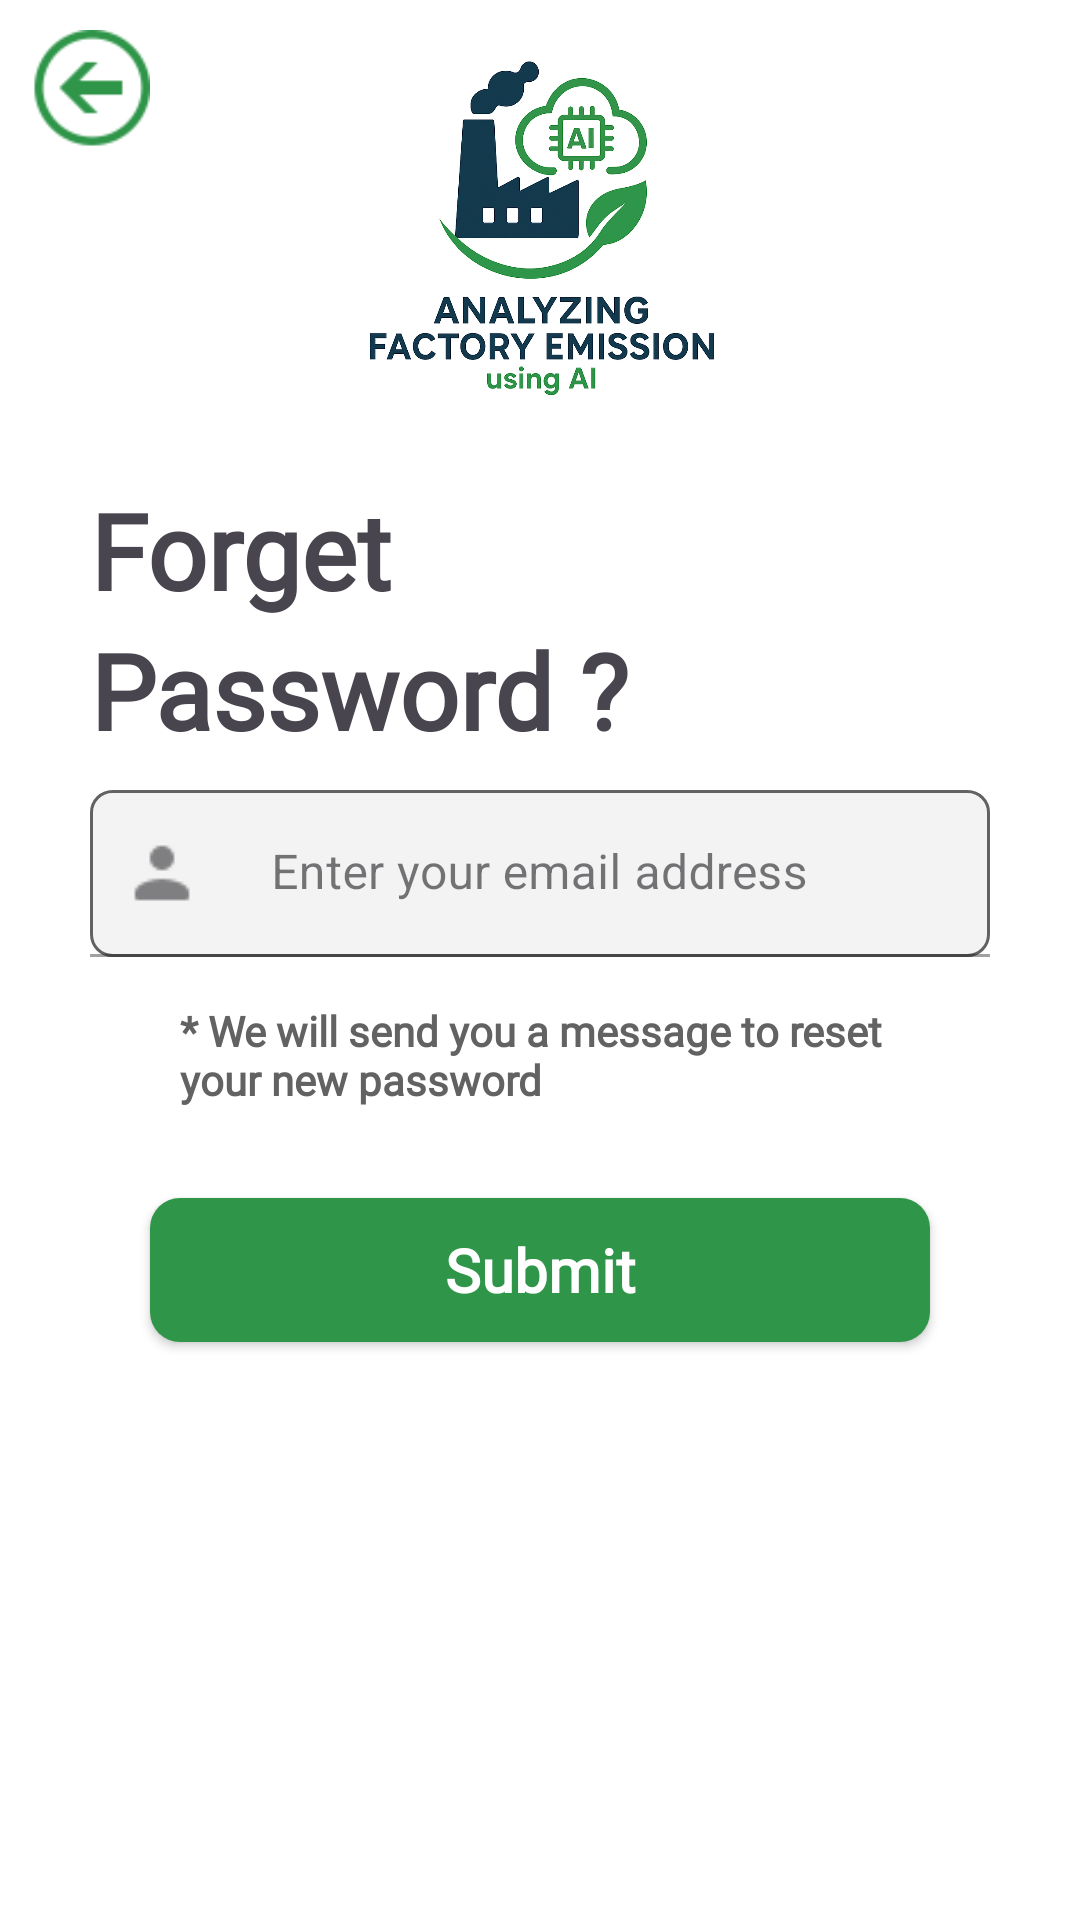

Point at icon controls on the screen. Image size 1080 x 1920, points as point (x, y).
back: point (92, 88)
